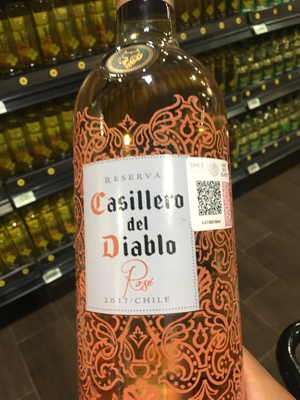casillero del diablo rose: (63, 1, 252, 400)
